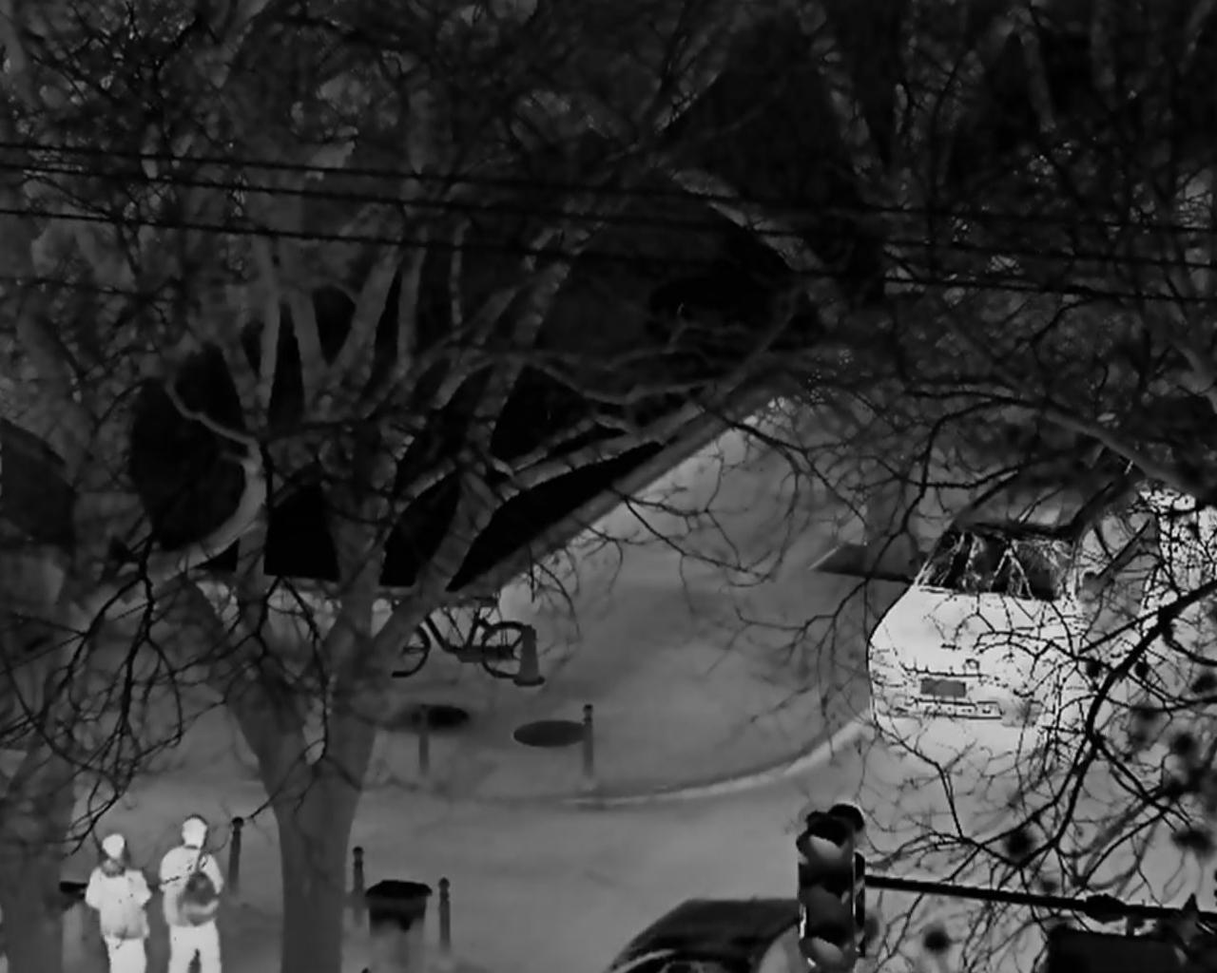person: (157, 816, 226, 973), (82, 834, 153, 973)
